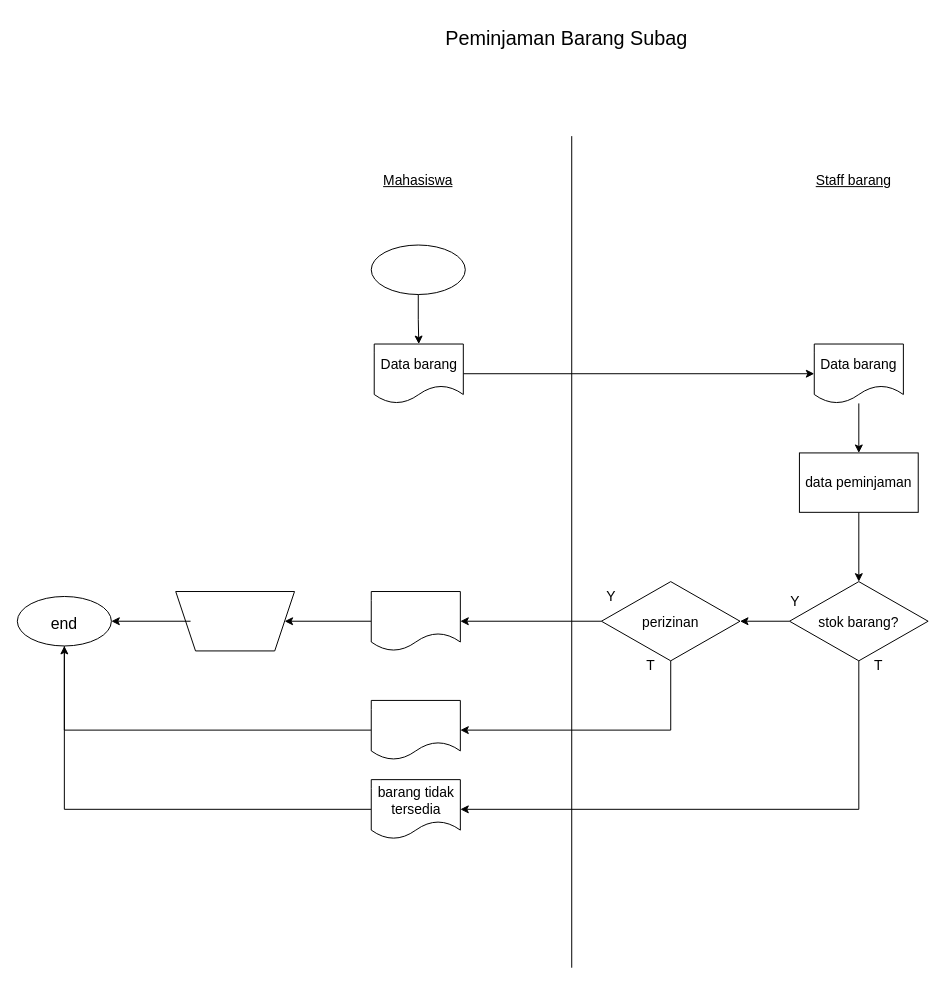
This 945x986 diagram has some shape labels left out. Each missing label, with the centre of its shape:
"batas waktu peminjaman" goes at (x=415, y=621).
"mulai" goes at (x=417, y=269).
"peminjaman ditolak" goes at (x=415, y=729).
"Pengambilan barang" goes at (x=235, y=621).
